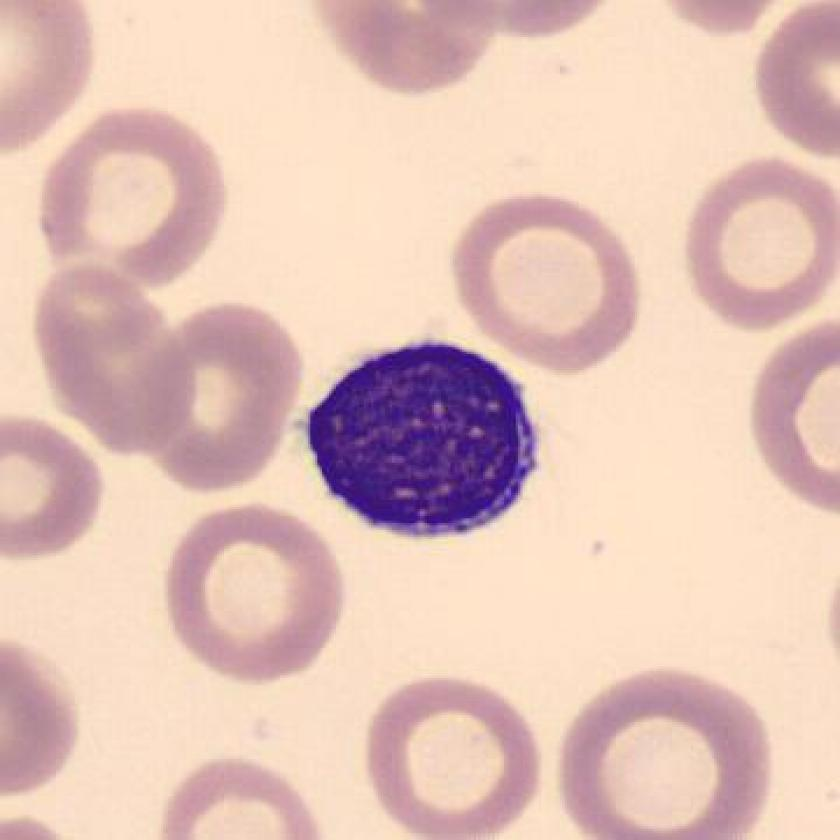lymphocyte: (283, 318, 561, 566)
